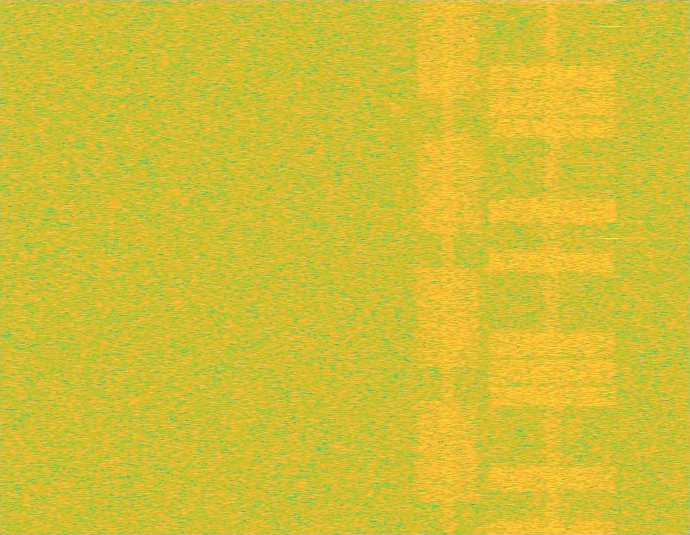5G: (414, 0, 483, 534)
DSSS: (543, 0, 561, 534), (441, 0, 456, 534)
LTE: (483, 0, 621, 534)
Radar: (604, 0, 618, 534)
